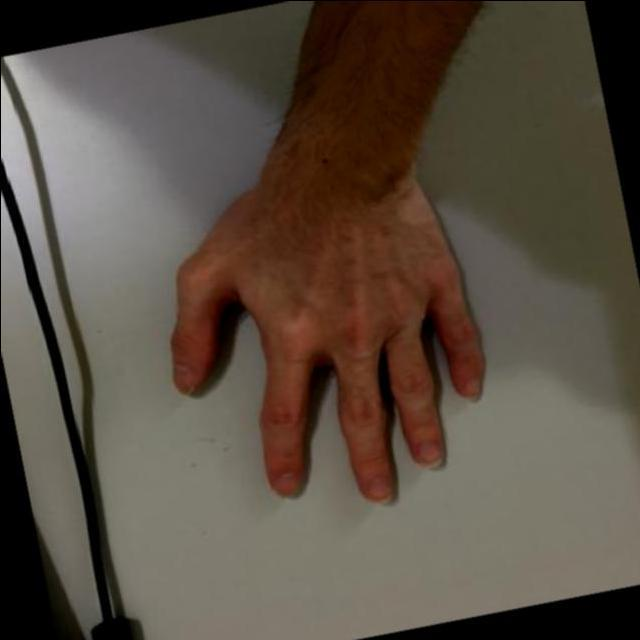Hand: (169, 116, 489, 504)
